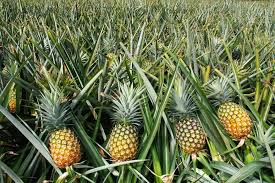pineapple: (213, 101, 257, 142), (47, 129, 82, 168), (175, 118, 206, 156), (108, 123, 136, 163)
